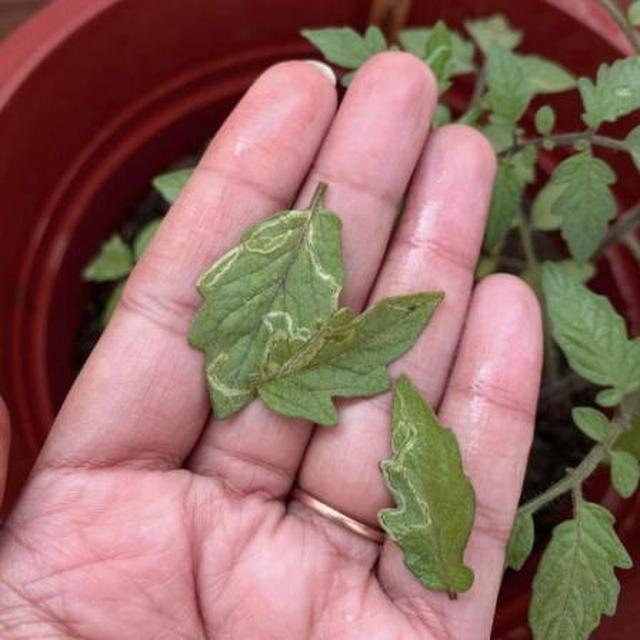Leaf Miner: (146, 198, 640, 640)
